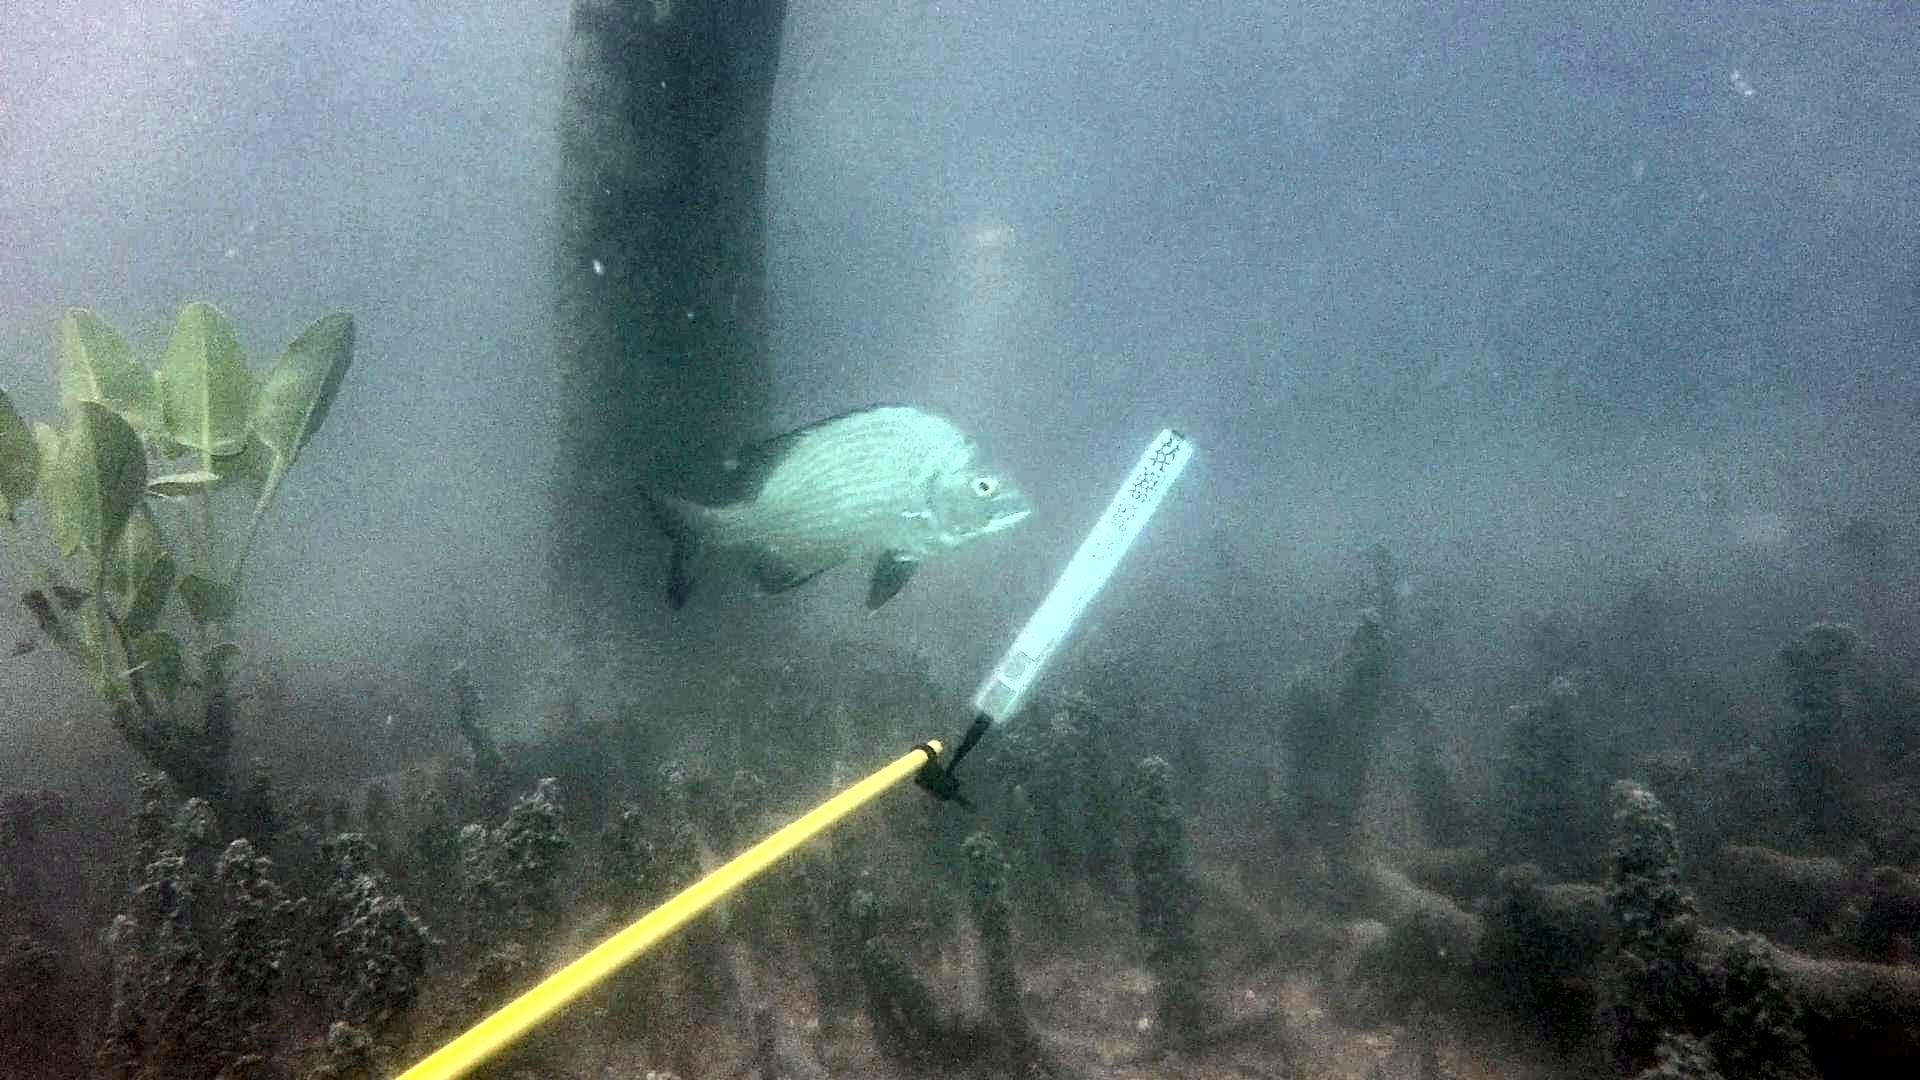acanthopagrus palmaris: (625, 397, 1035, 624)
